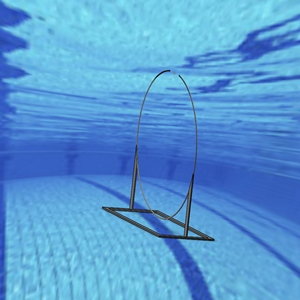circle: (102, 65, 215, 242)
